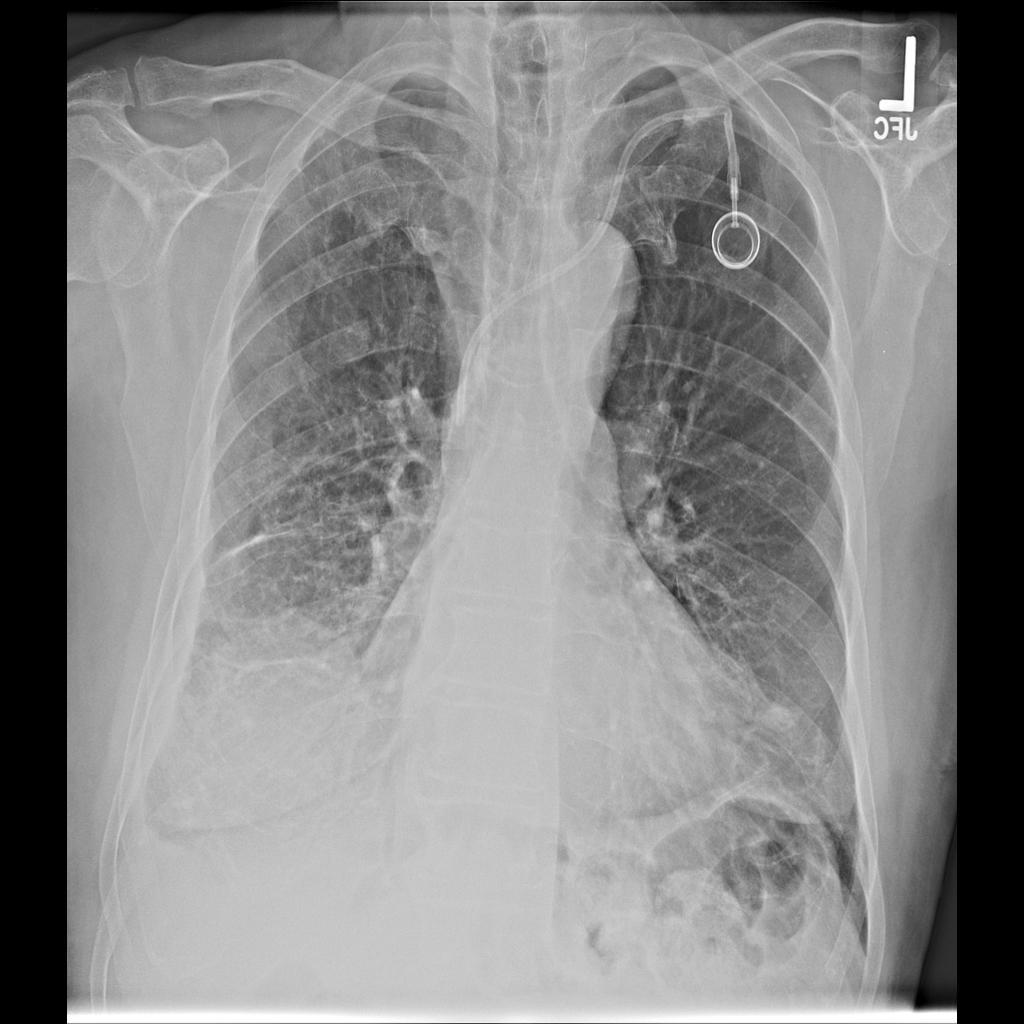Nodule: (758, 694, 802, 742)
